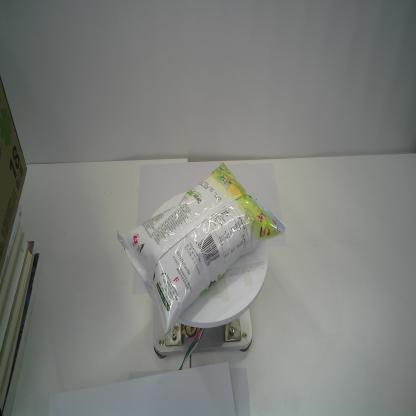Puffed Food: (115, 161, 288, 337)
